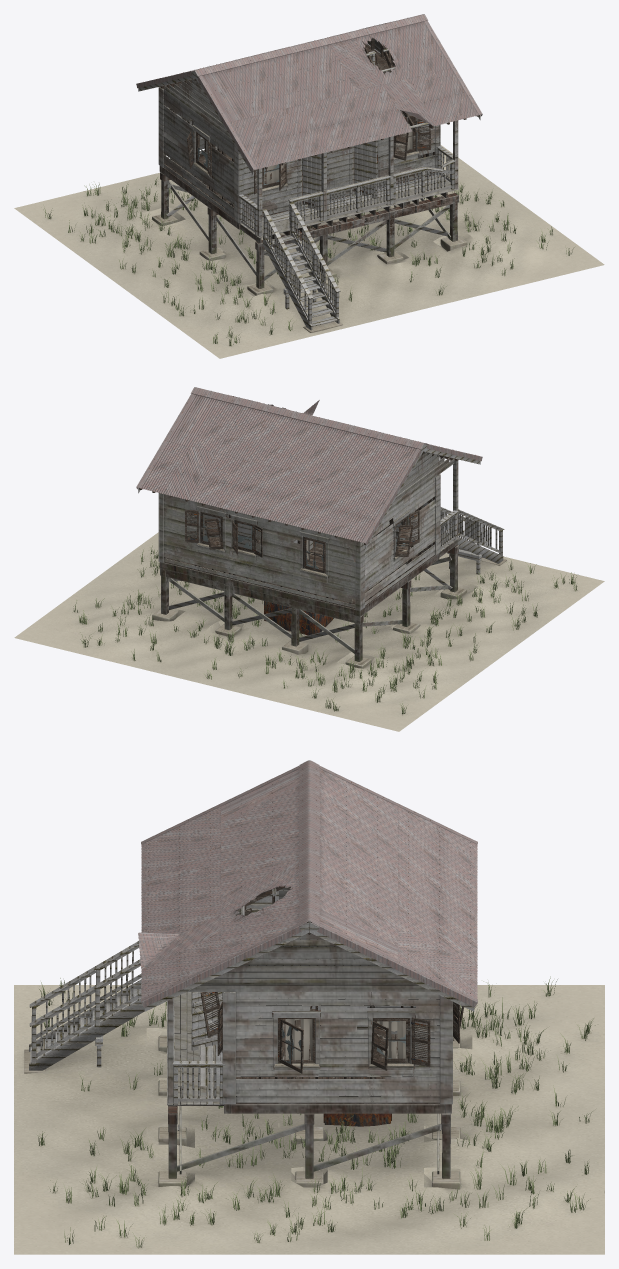
File: CAB_2_pilotes.glb
The picture shows the model from 3 angles, top to bottom: view 1: azimuth 30°, elevation 25°; view 2: azimuth 150°, elevation 25°; view 3: azimuth 270°, elevation 25°; orthographic projection. The views are drawn at different scales.
Parts seen in each view (by area): view 1: CAB_2_pilotes_Sand, CAB_2_pilotes_Roof, CAB_2_pilotes_Details, CAB_2_pilotes_WallsRest, CAB_2_pilotes_WallsMain, CAB_2_pilotes_SkirtLoose, CAB_2_pilotes_Interior; view 2: CAB_2_pilotes_Sand, CAB_2_pilotes_Roof, CAB_2_pilotes_WallsRest, CAB_2_pilotes_Details, CAB_2_pilotes_SkirtLoose, CAB_2_pilotes_Interior; view 3: CAB_2_pilotes_Sand, CAB_2_pilotes_Roof, CAB_2_pilotes_WallsRest, CAB_2_pilotes_Details, CAB_2_pilotes_SkirtLoose, CAB_2_pilotes_Interior, CAB_2_pilotes_WallsMain.
Boxes of the visible parts, x1=… form: CAB_2_pilotes_Sand: x1=14, y1=145, x2=604, y2=358; CAB_2_pilotes_Roof: x1=136, y1=14, x2=482, y2=175; CAB_2_pilotes_Details: x1=187, y1=51, x2=455, y2=332; CAB_2_pilotes_WallsRest: x1=152, y1=40, x2=466, y2=295; CAB_2_pilotes_WallsMain: x1=161, y1=38, x2=466, y2=295; CAB_2_pilotes_SkirtLoose: x1=43, y1=177, x2=574, y2=346; CAB_2_pilotes_Interior: x1=153, y1=39, x2=465, y2=292; CAB_2_pilotes_Sand: x1=14, y1=532, x2=604, y2=731; CAB_2_pilotes_Roof: x1=136, y1=387, x2=482, y2=548; CAB_2_pilotes_WallsRest: x1=152, y1=452, x2=466, y2=668; CAB_2_pilotes_Details: x1=185, y1=507, x2=506, y2=635; CAB_2_pilotes_SkirtLoose: x1=73, y1=545, x2=577, y2=714; CAB_2_pilotes_Interior: x1=153, y1=451, x2=465, y2=665; CAB_2_pilotes_Sand: x1=14, y1=985, x2=604, y2=1254; CAB_2_pilotes_Roof: x1=138, y1=760, x2=477, y2=1011; CAB_2_pilotes_WallsRest: x1=159, y1=887, x2=460, y2=1189; CAB_2_pilotes_Details: x1=24, y1=941, x2=464, y2=1126; CAB_2_pilotes_SkirtLoose: x1=37, y1=976, x2=595, y2=1248; CAB_2_pilotes_Interior: x1=160, y1=890, x2=458, y2=1182; CAB_2_pilotes_WallsMain: x1=158, y1=992, x2=445, y2=1186.
Size of the model in its own units: 13.45 by 6.64 by 12.45.
Materials: 12 (10 with a texture image).
